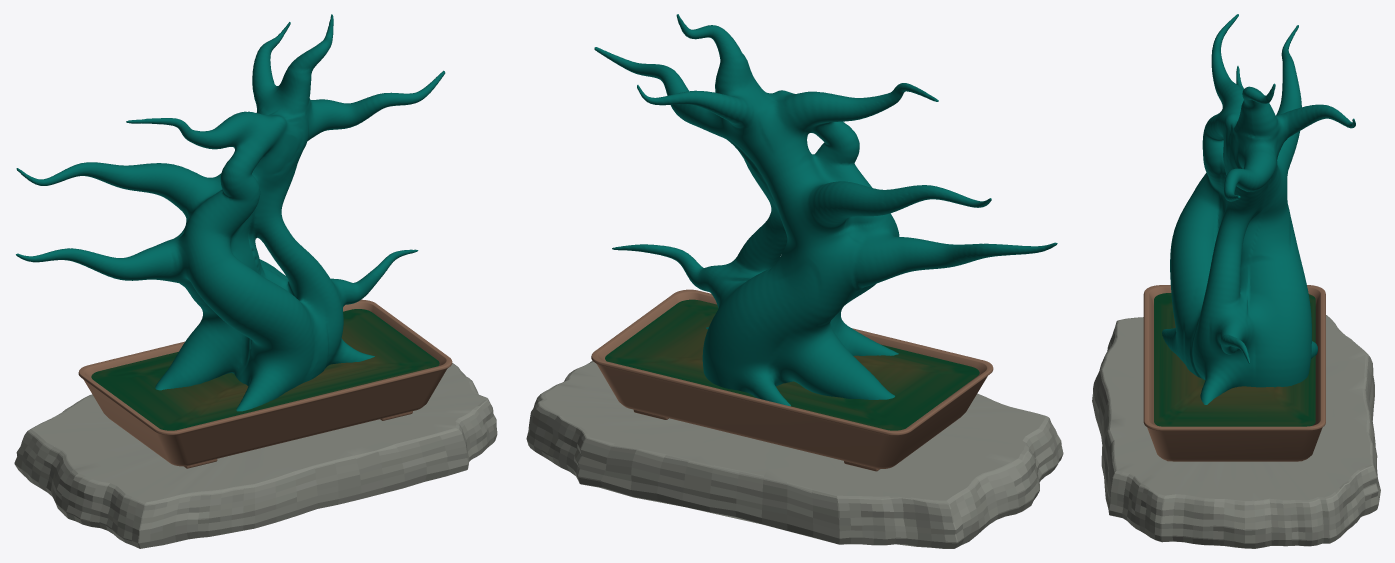
File: hero-v02.glb
3 views of the same model, side by side, from view 1: azimuth 30°, elevation 25°; view 2: azimuth 150°, elevation 25°; view 3: azimuth 270°, elevation 25° (orthographic). The views are drawn at different scales.
Visible parts, largest first — view 1: Continuous aged trunk and primary branches, Low split natural bedding stone, Shallow unglazed pot, Continuous planted soil; view 2: Continuous aged trunk and primary branches, Low split natural bedding stone, Shallow unglazed pot, Continuous planted soil; view 3: Continuous aged trunk and primary branches, Low split natural bedding stone, Shallow unglazed pot, Continuous planted soil.
Part boxes in pixels (x1,y1,x2,y2): Continuous aged trunk and primary branches: (16,14,445,411); Low split natural bedding stone: (14,363,497,548); Shallow unglazed pot: (78,299,452,466); Continuous planted soil: (91,309,439,430); Continuous aged trunk and primary branches: (594,14,1057,406); Low split natural bedding stone: (526,360,1063,548); Shallow unglazed pot: (591,289,993,468); Continuous planted soil: (605,299,979,430); Continuous aged trunk and primary branches: (1162,14,1355,404); Low split natural bedding stone: (1092,315,1380,548); Shallow unglazed pot: (1143,285,1325,461); Continuous planted soil: (1154,293,1315,426).
Bounding box in the file's own units: 2.48 × 2.13 × 1.36.
